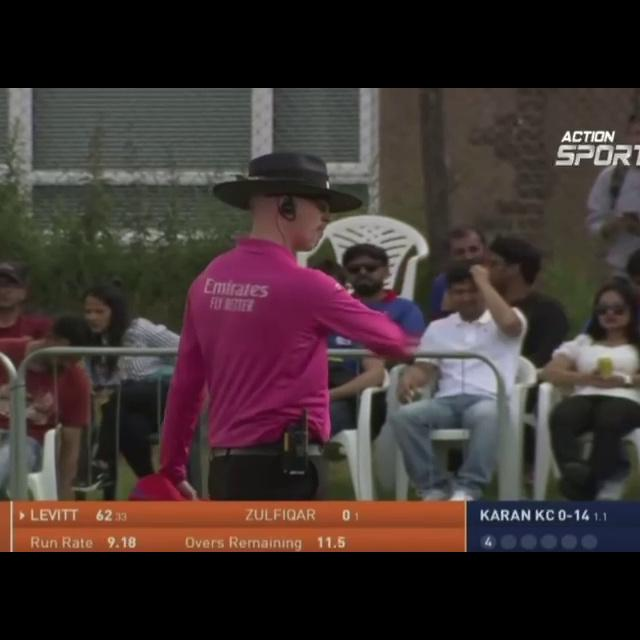umpire: (96, 137, 461, 498)
